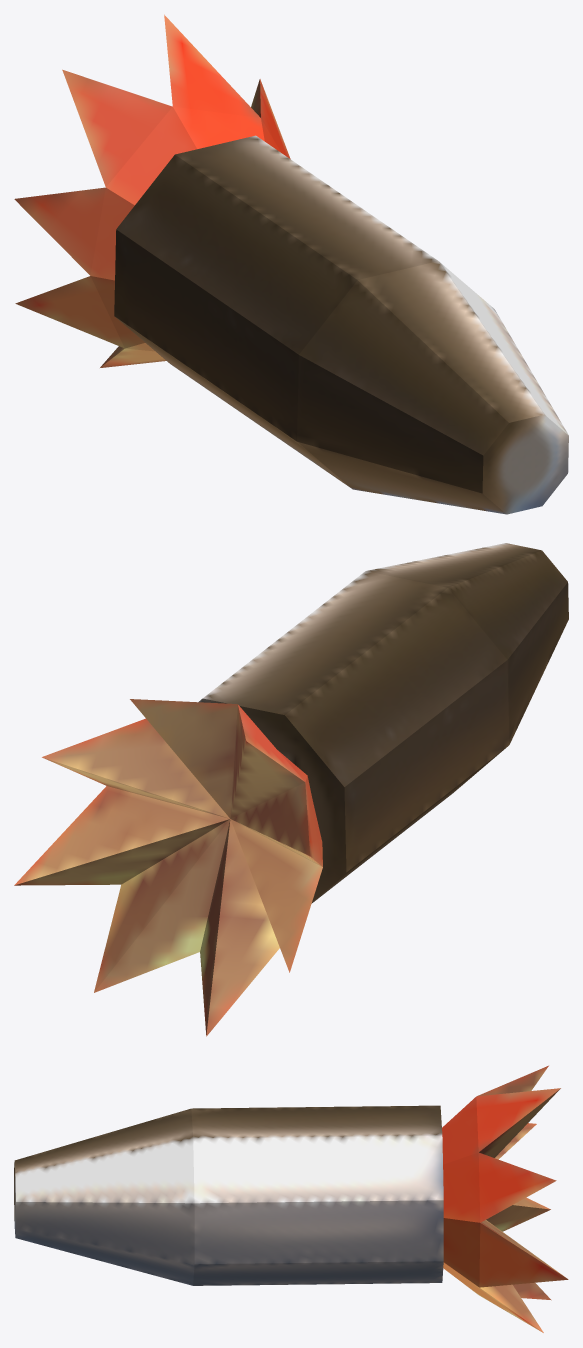
3 views of the same model, one above another, from view 1: azimuth 30°, elevation 25°; view 2: azimuth 150°, elevation 25°; view 3: azimuth 270°, elevation 25° (orthographic). The views are drawn at different scales.
Parts seen in each view (by area): view 1: Bala_Cylinder.003, Fogonazo_Cylinder.004; view 2: Bala_Cylinder.003, Fogonazo_Cylinder.004; view 3: Bala_Cylinder.003, Fogonazo_Cylinder.004.
Boxes of the visible parts, x1,y1,x2,y2 form: Bala_Cylinder.003: [114, 135, 568, 514]; Fogonazo_Cylinder.004: [14, 14, 290, 367]; Bala_Cylinder.003: [198, 543, 568, 903]; Fogonazo_Cylinder.004: [14, 699, 322, 1036]; Bala_Cylinder.003: [14, 1105, 443, 1285]; Fogonazo_Cylinder.004: [442, 1065, 568, 1332].
Size of what is drawn, in the model's own units: 0.3635 by 0.4124 by 0.8754.
